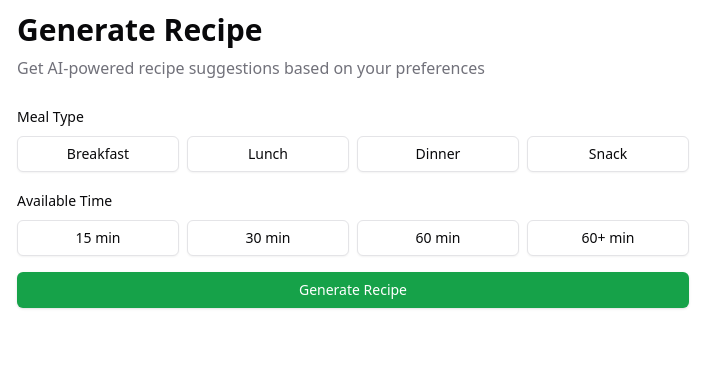
Test: RecipeGenerator › shows validation error for missing meal type
Click the button "Generate Recipe" at (353, 290), box [17,272,689,308]
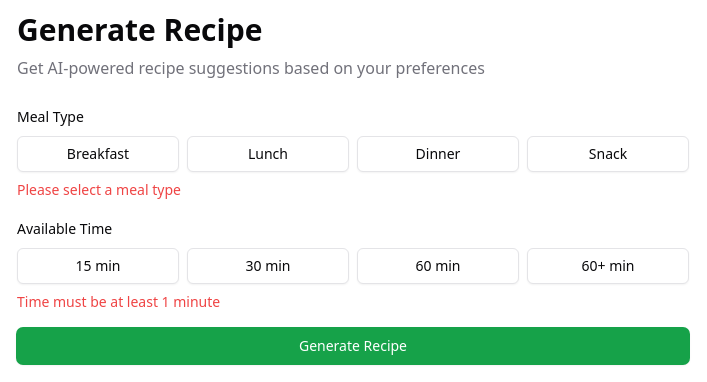
Expected: the text "Please select a meal type" is shown, [17,180,181,199]
